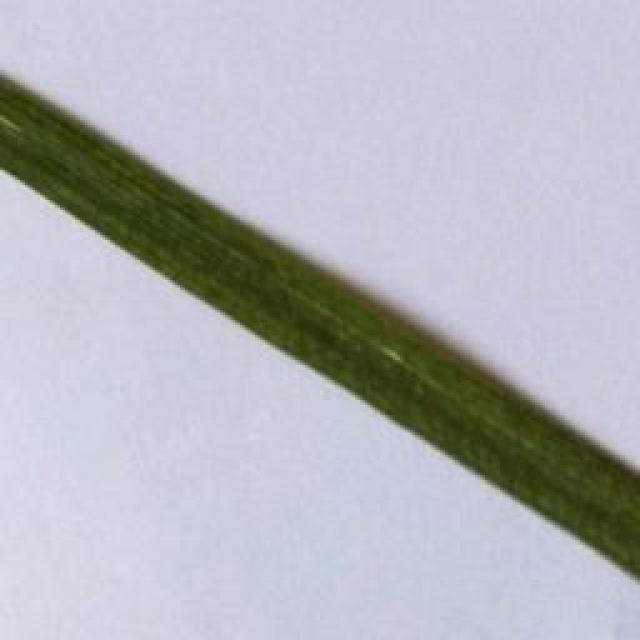Healthy-Plant: (0, 73, 640, 582)
